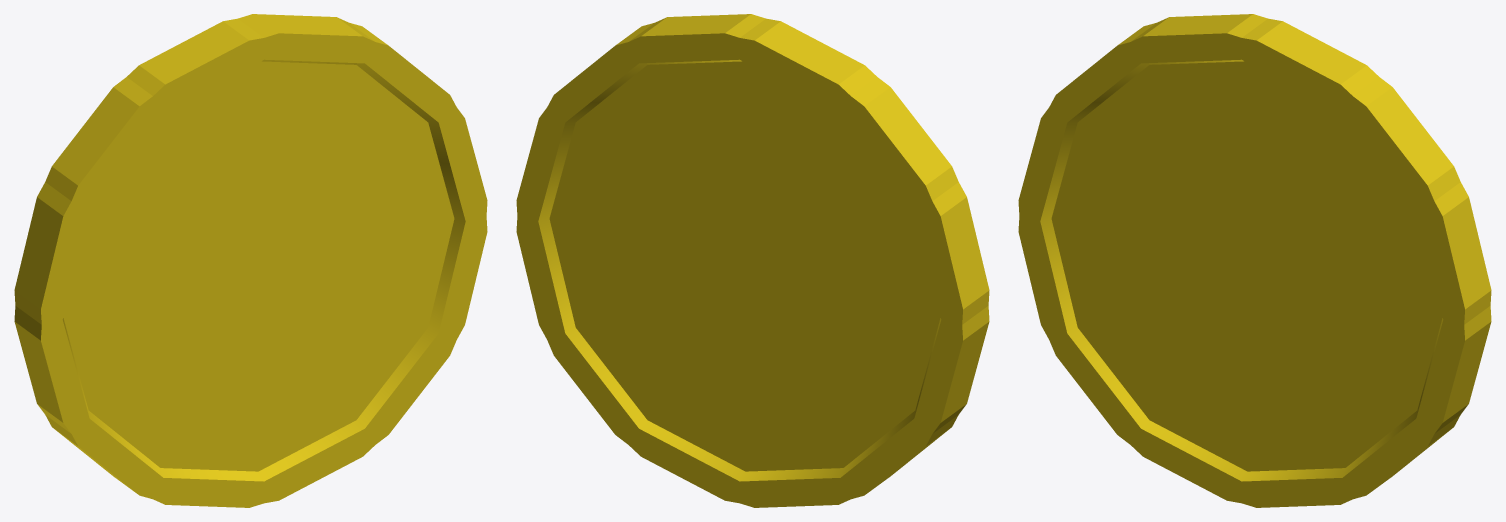
File: Prop_Collectible.FBX
3 views of the same model, side by side, from view 1: azimuth 30°, elevation 25°; view 2: azimuth 150°, elevation 25°; view 3: azimuth 330°, elevation 25° (orthographic).
Parts seen in each view (by area): view 1: Prop_Collectible; view 2: Prop_Collectible; view 3: Prop_Collectible.
Part boxes in pixels (x1,y1,x2,y2): Prop_Collectible: (14, 14, 487, 507); Prop_Collectible: (516, 14, 989, 507); Prop_Collectible: (1018, 14, 1491, 507).
Size of the model in its own units: 26.94 by 26.94 by 2.76.
